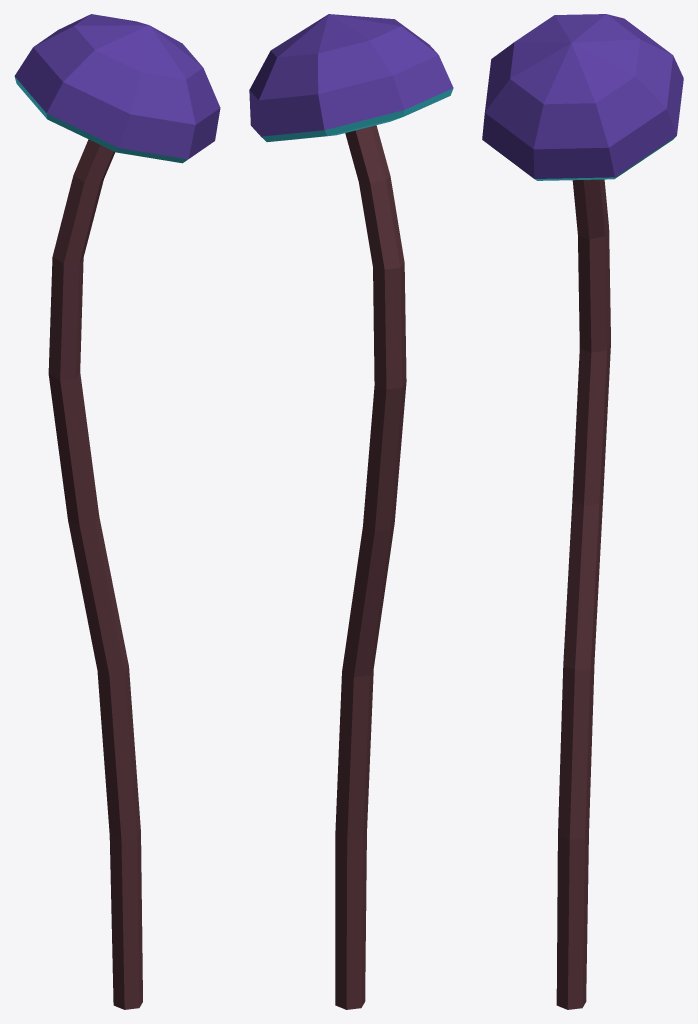
File: scifi-tree-mushroom-small.fbx
3 views of the same model, side by side, from view 1: azimuth 30°, elevation 25°; view 2: azimuth 150°, elevation 25°; view 3: azimuth 270°, elevation 25° (orthographic).
Parts seen in each view (by area): view 1: scifi-tree-mushroom-small; view 2: scifi-tree-mushroom-small; view 3: scifi-tree-mushroom-small.
Boxes of the visible parts, box(x1,y1,x2,y2) form: scifi-tree-mushroom-small: box(14, 14, 220, 1009); scifi-tree-mushroom-small: box(249, 14, 453, 1009); scifi-tree-mushroom-small: box(482, 14, 683, 1009).
Bounding box in the file's own units: 0.4284 × 2.31 × 0.4339.
